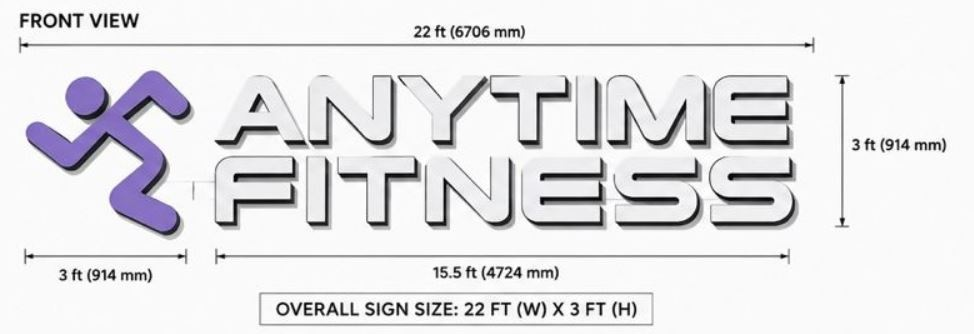signboard_piece: (352, 69, 662, 327), (255, 264, 322, 322), (453, 155, 513, 194), (259, 249, 285, 276), (265, 232, 278, 241), (297, 194, 307, 203)
